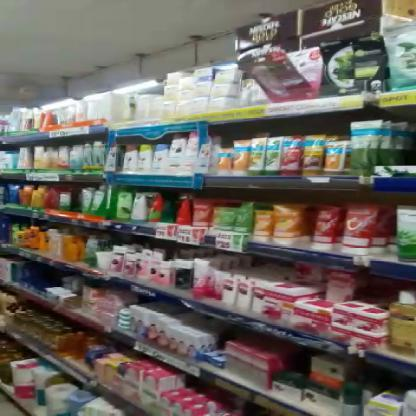Everyuth Naturals Body Lotion Nourishing Cocoa 200ml: (170, 132, 189, 172), (122, 144, 138, 172)
Everyuth Naturals Body Lotion Rejuvenating Flora 200ml: (186, 130, 200, 172)
Everyuth Naturals Body Lotion Soothing Citrus 200ml: (136, 144, 154, 173)
Everyuth Naturals Body Lotion Sun Care Berries SPF 15 200ml: (154, 143, 170, 172)
